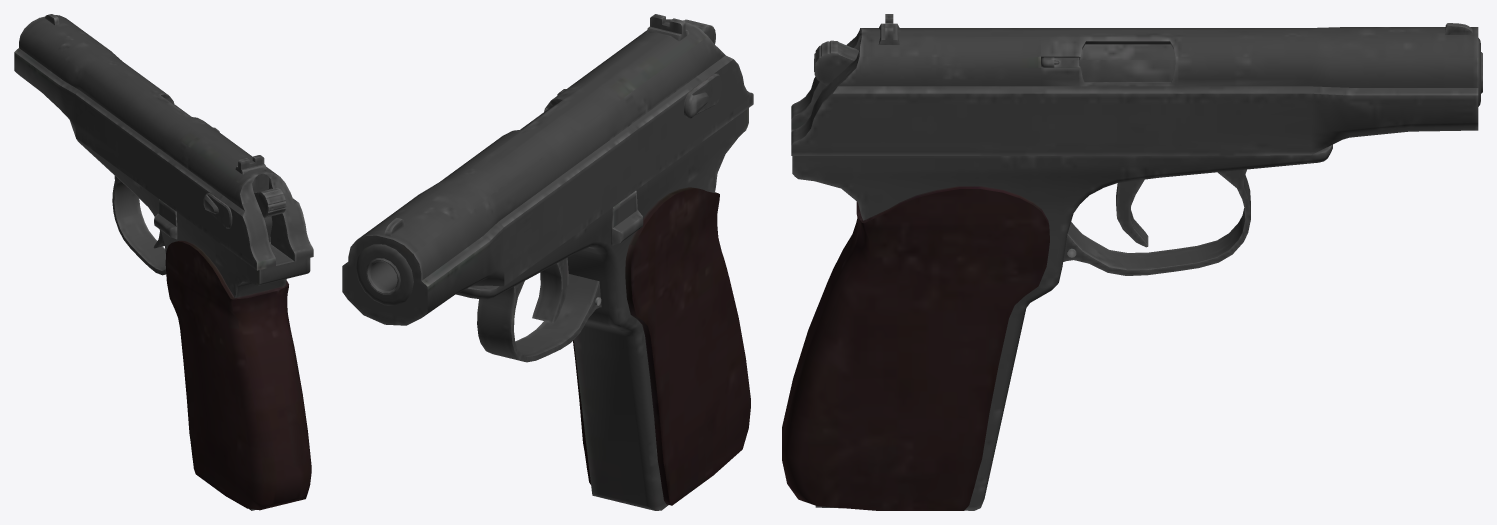
File: pistol.glb
3 renders of one model, left to right at view 1: azimuth 30°, elevation 25°; view 2: azimuth 150°, elevation 25°; view 3: azimuth 270°, elevation 25°, orthographic. The views are drawn at different scales.
Visible parts, largest first — view 1: body; view 2: body; view 3: body.
Boxes of the visible parts, left/top/right/bottom form: body: left=14, top=14, right=313, bottom=510; body: left=342, top=14, right=753, bottom=510; body: left=782, top=14, right=1482, bottom=510.
Bounding box in the file's own units: 0.0247 × 0.1205 × 0.162.
Materials: 1 (1 with a texture image).
